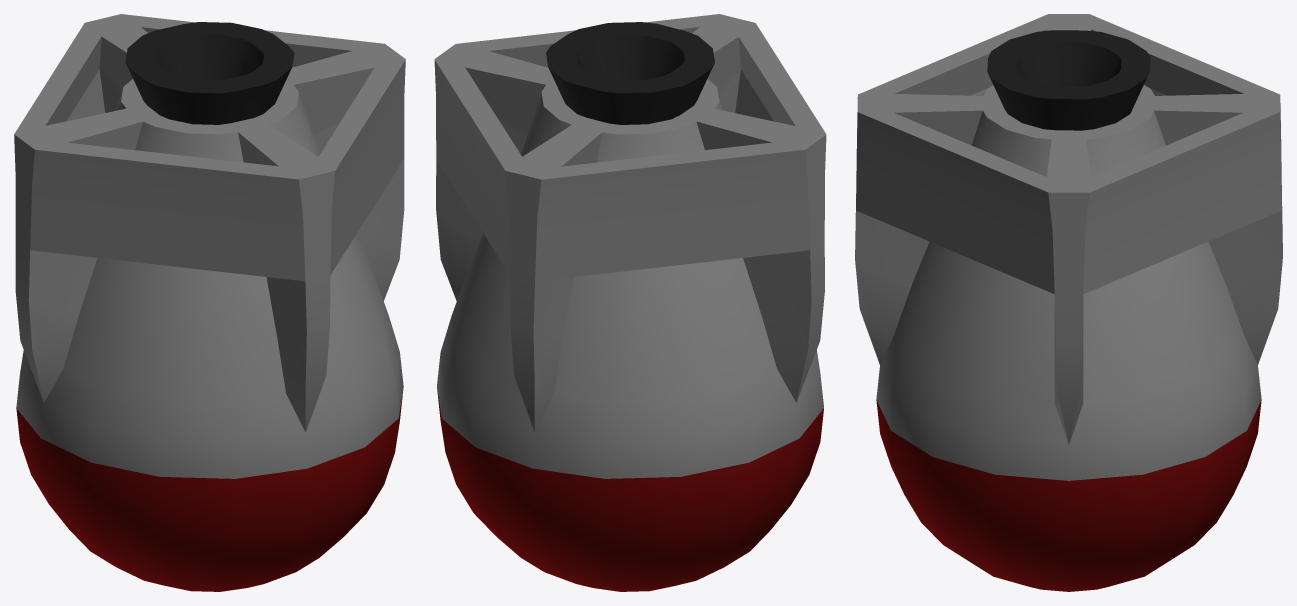
File: bomb.fbx
3 renders of one model, left to right at view 1: azimuth 30°, elevation 25°; view 2: azimuth 150°, elevation 25°; view 3: azimuth 270°, elevation 25°, orthographic.
Visible parts, largest first — view 1: pSphere1; view 2: pSphere1; view 3: pSphere1.
Boxes of the visible parts, x1,y1,x2,y2 form: pSphere1: (14, 14, 405, 591); pSphere1: (434, 14, 826, 591); pSphere1: (855, 14, 1282, 591).
Bounding box in the file's own units: 33.66 × 44.22 × 33.66.
